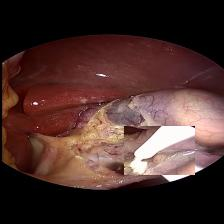Hook: (123, 126, 194, 175)
